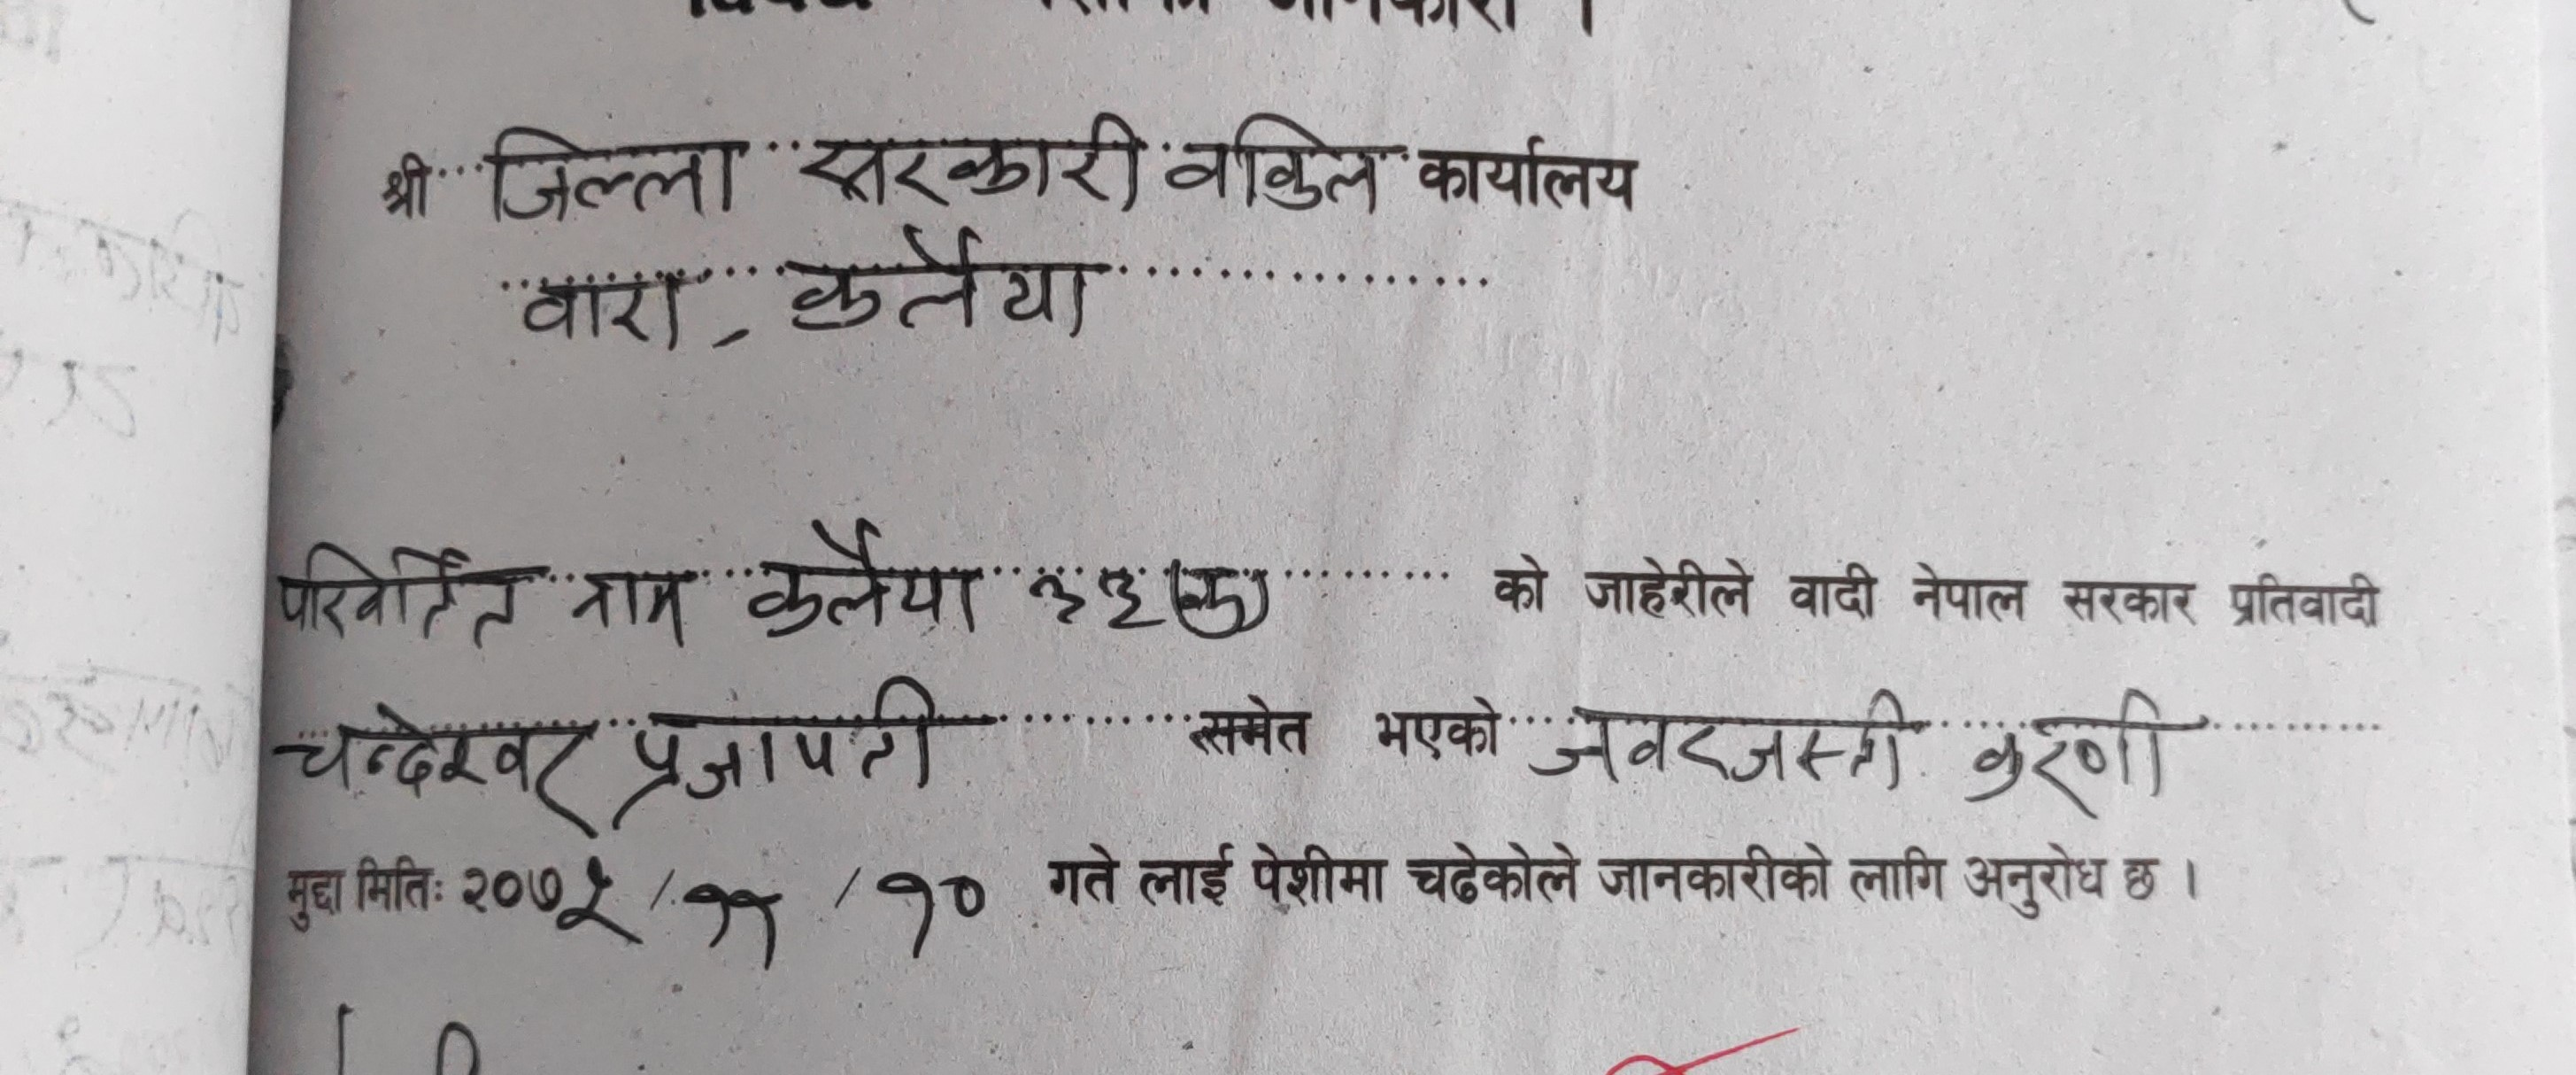text: (1525, 676, 1912, 810), (623, 666, 954, 817), (785, 104, 1153, 224), (772, 224, 1111, 353), (264, 699, 616, 819), (733, 511, 991, 649), (1943, 677, 2192, 812), (1157, 104, 1400, 227), (481, 117, 751, 227), (281, 534, 534, 648), (509, 270, 693, 357), (869, 866, 991, 978), (677, 868, 784, 990), (565, 564, 703, 654), (1022, 561, 1166, 638)
